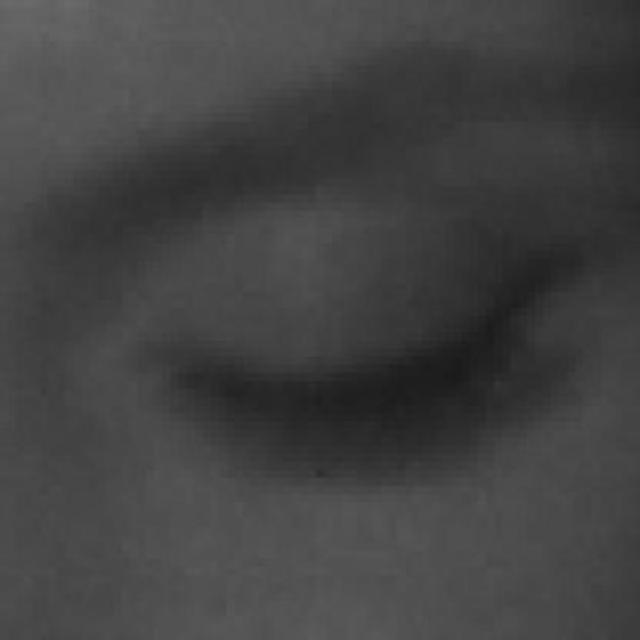drowsy: (166, 177, 574, 548)
